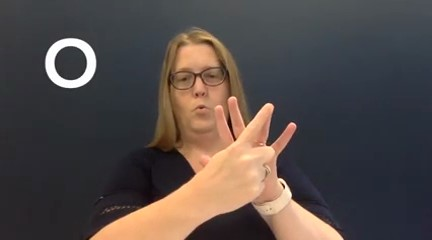O: (190, 94, 300, 209)
